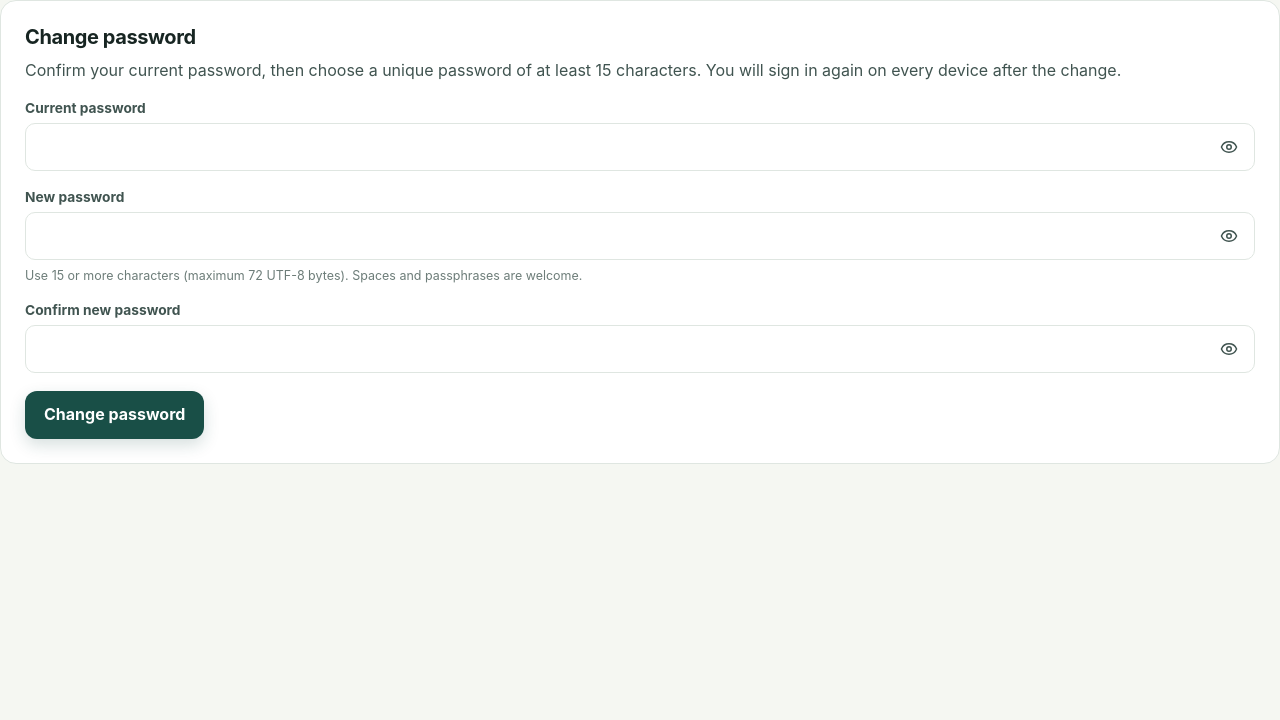
Scenario: AUTH-007 ChangePasswordForm › keeps provider diagnostics private when the current password is rejected
Type "current password value" into the password field labelled "Current password" at (640, 147), box x1=25 y1=123 x2=1255 y2=171
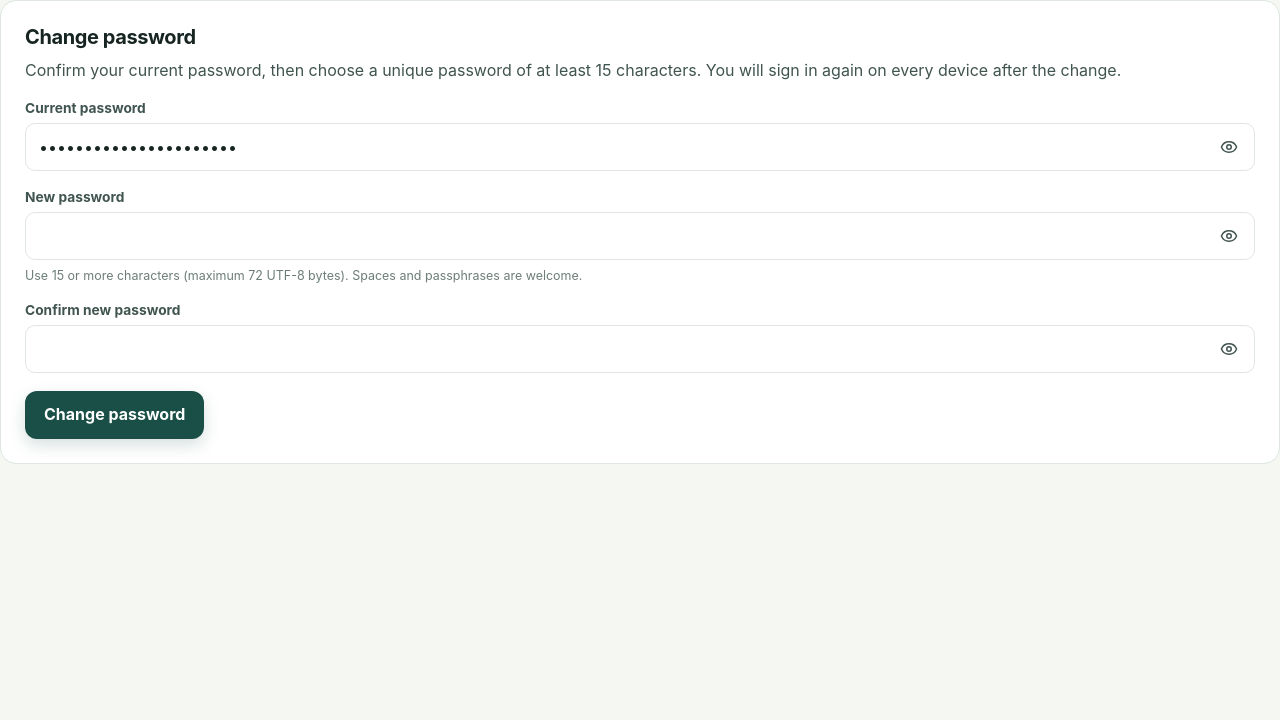
Type "a different sufficiently long password" into the password field labelled "New password" at (640, 236), box x1=25 y1=212 x2=1255 y2=260
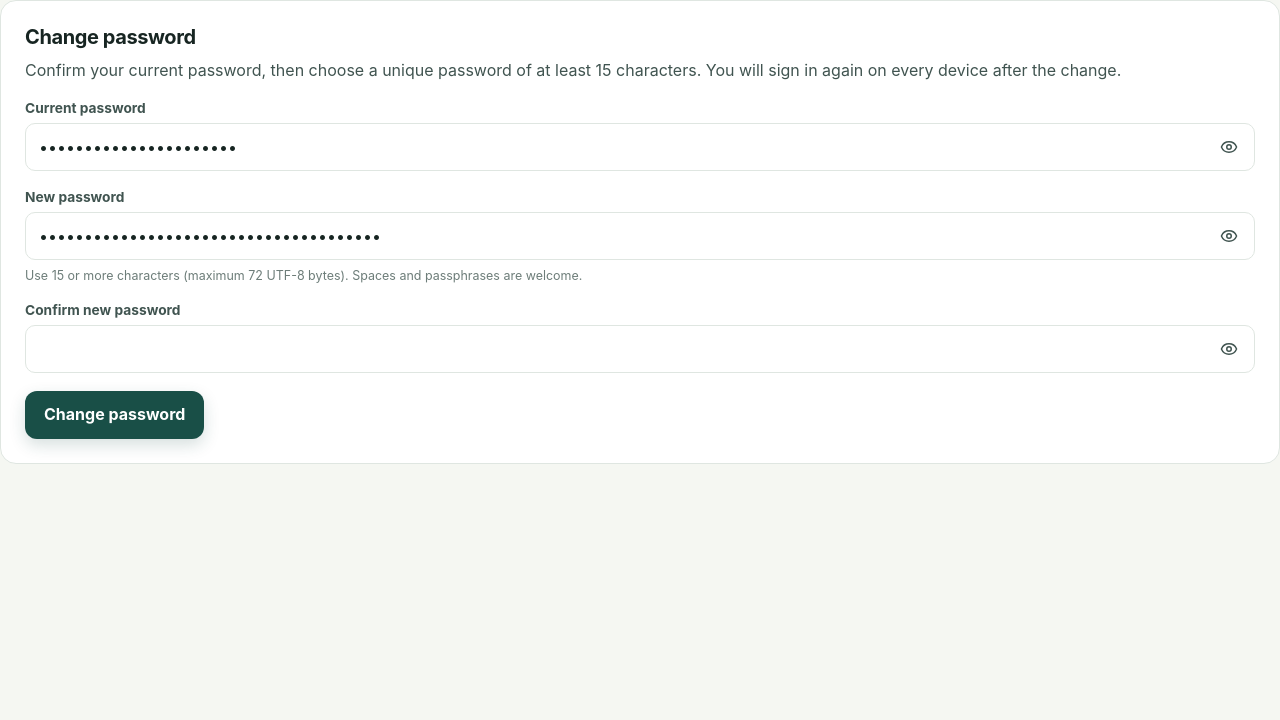
Type "a different sufficiently long password" into the password field labelled "Confirm new password" at (640, 349), box x1=25 y1=325 x2=1255 y2=373
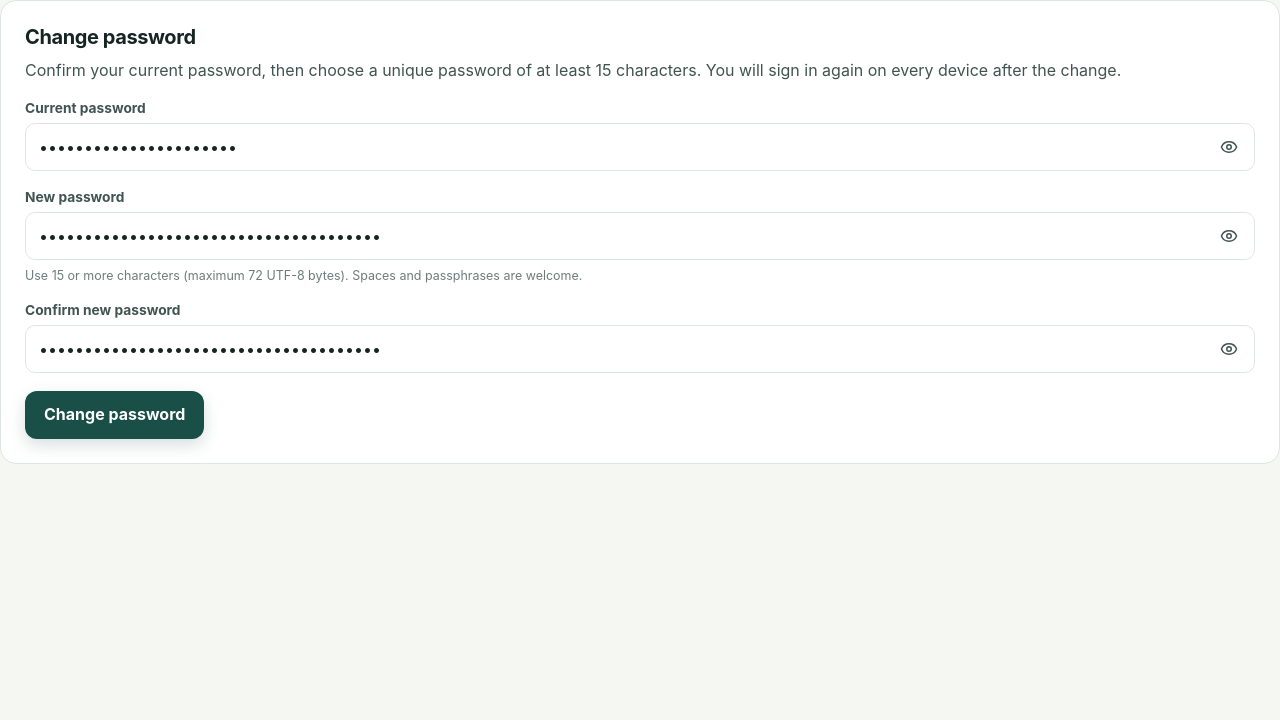
Click the button "Change password" at (115, 415), box x1=25 y1=391 x2=204 y2=439
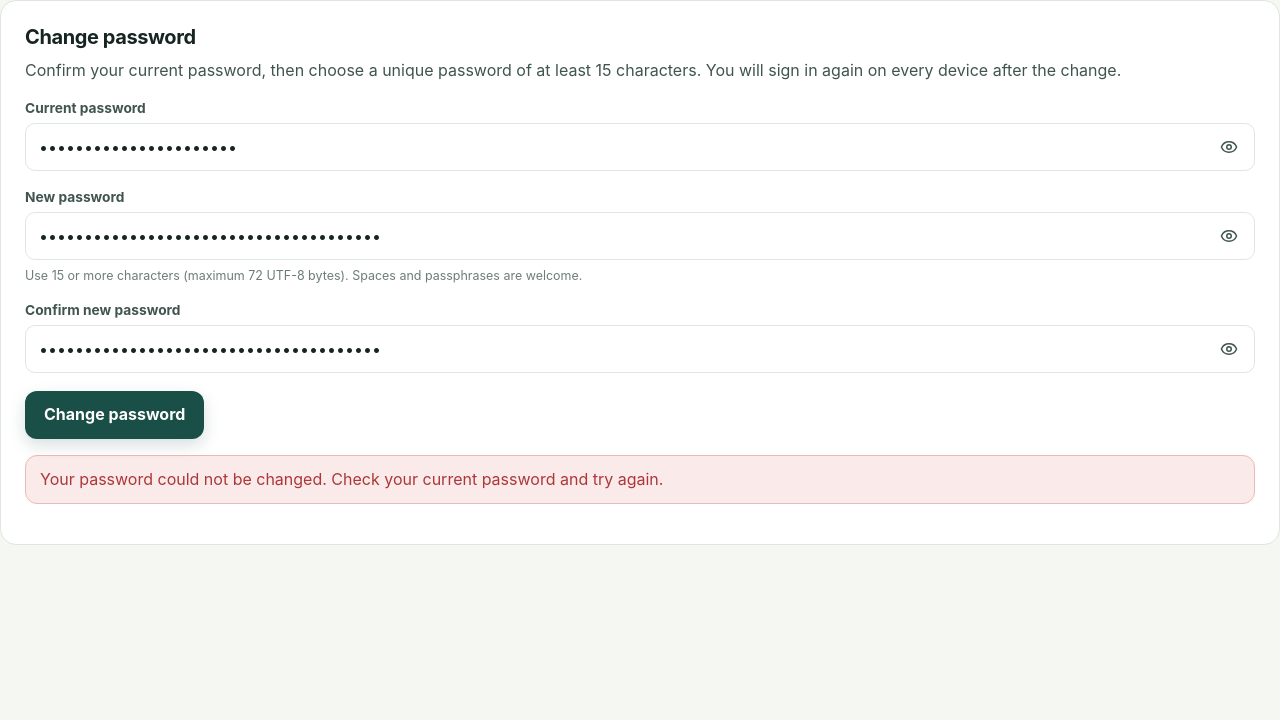
expect the message shows "could not be changed": met, box x1=40 y1=469 x2=663 y2=489
